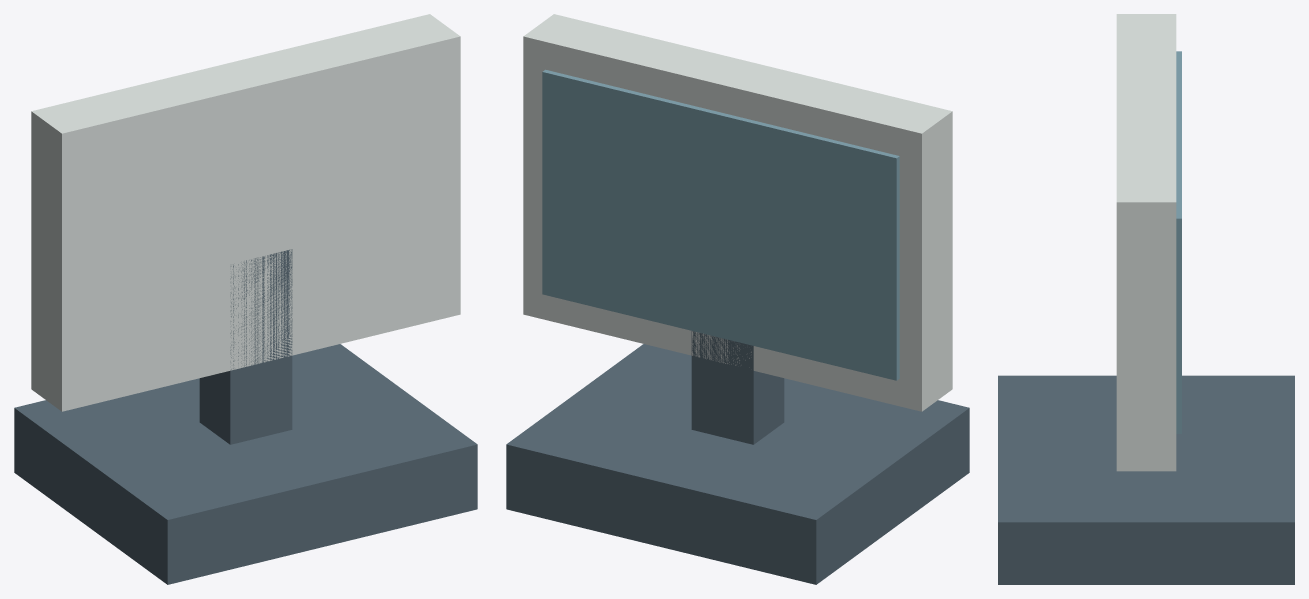
The model's file is terminal.glb.
3 views of the same model, side by side, from view 1: azimuth 30°, elevation 25°; view 2: azimuth 150°, elevation 25°; view 3: azimuth 270°, elevation 25° (orthographic). The views are drawn at different scales.
Parts seen in each view (by area): view 1: Display, Base, Stem; view 2: Screen, Base, Display, Stem; view 3: Base, Display, Screen.
Part boxes in pixels (box(x1,y1,x2,y2)): Display: box(31, 14, 460, 411); Base: box(14, 344, 477, 584); Stem: box(199, 249, 292, 444); Screen: box(542, 69, 899, 380); Base: box(506, 344, 969, 584); Display: box(523, 14, 952, 411); Stem: box(691, 331, 784, 444); Base: box(998, 375, 1294, 584); Display: box(1116, 14, 1176, 471); Screen: box(1176, 51, 1181, 433).
Bounding box in the file's own units: 0.45 × 0.45 × 0.3.
